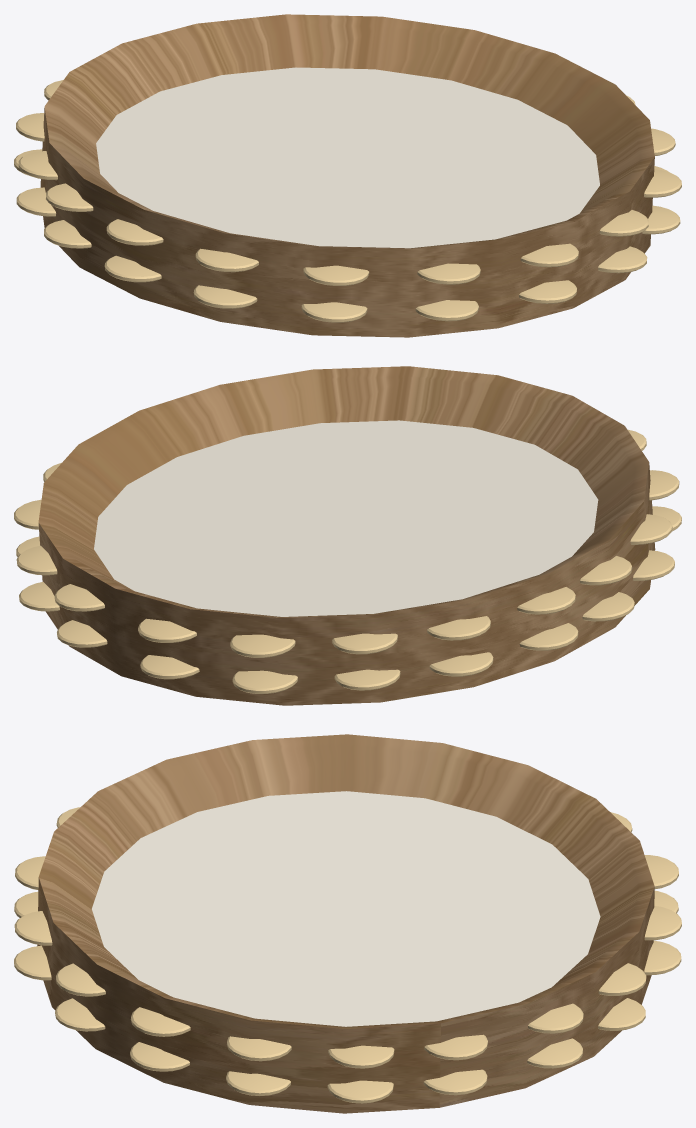
File: tambourine.glb
The picture shows the model from 3 angles, top to bottom: view 1: azimuth 30°, elevation 25°; view 2: azimuth 150°, elevation 25°; view 3: azimuth 270°, elevation 25°; orthographic projection.
Visible parts, largest first — view 1: polySurface50, polySurface14; view 2: polySurface50, polySurface14; view 3: polySurface50, polySurface14.
Boxes of the visible parts, <box> form: polySurface50: <box>40,14,654,337</box>; polySurface14: <box>14,80,681,322</box>; polySurface50: <box>38,366,655,705</box>; polySurface14: <box>14,429,681,693</box>; polySurface50: <box>37,734,654,1113</box>; polySurface14: <box>14,807,681,1103</box>.
Bounding box in the file's own units: 0.0161 × 0.00323 × 0.0159.
Materials: 3 (1 with a texture image).
